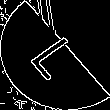L_NE: (23, 28, 87, 82)
